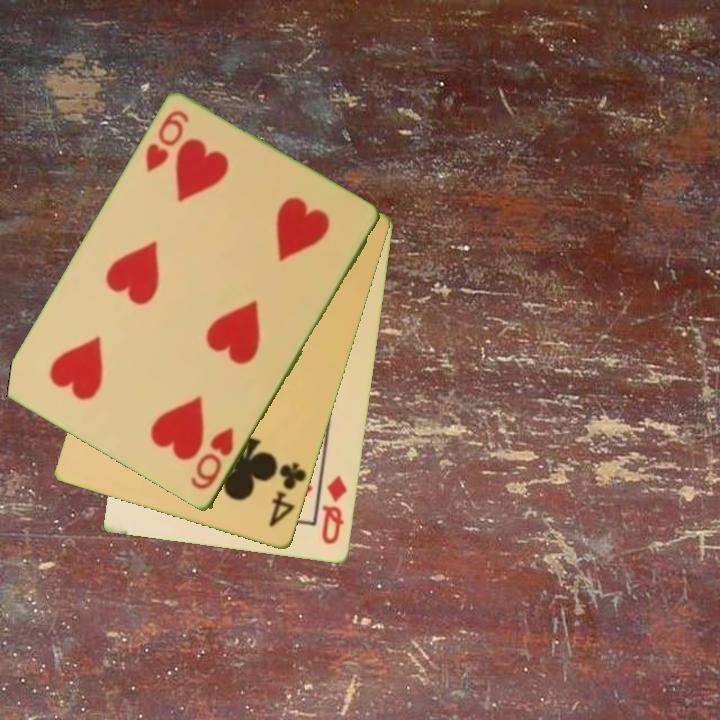4c: (265, 459, 310, 530)
6h: (186, 424, 237, 494), (142, 107, 192, 176)
Qd: (318, 472, 350, 548)
